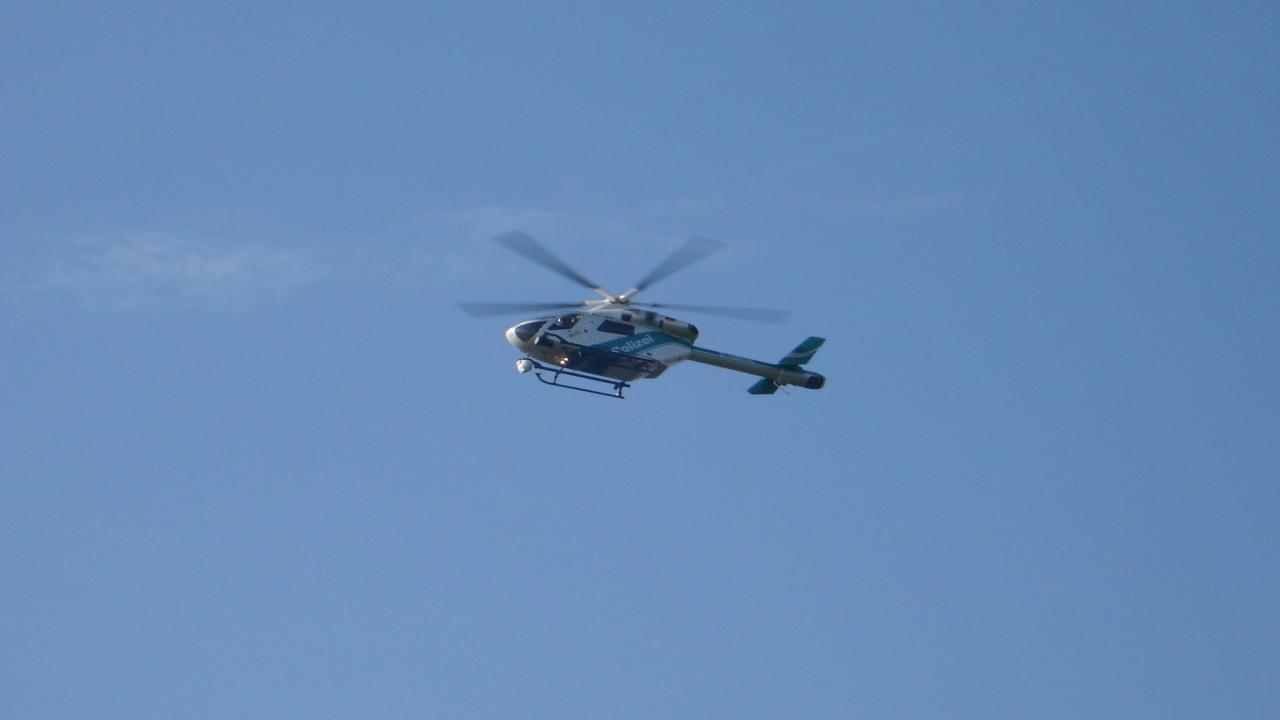Helicopter: (408, 198, 876, 430)
